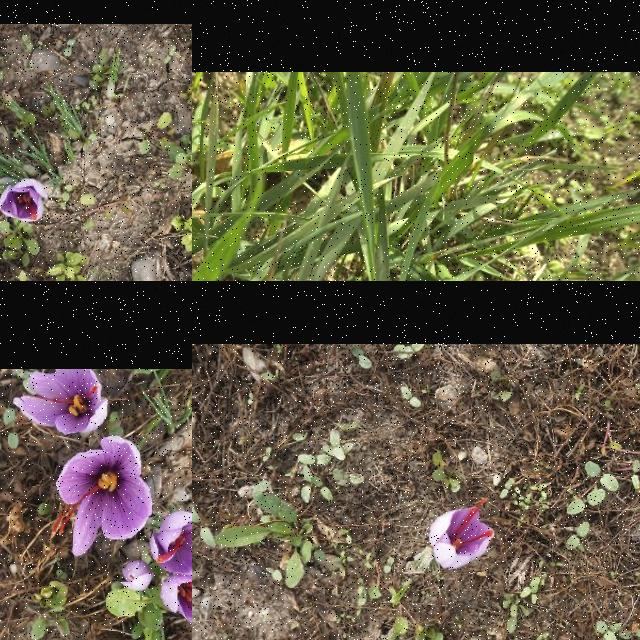flower: (50, 436, 154, 558), (11, 369, 109, 436), (428, 498, 496, 570), (149, 510, 192, 575), (159, 568, 192, 634), (0, 177, 48, 222)
